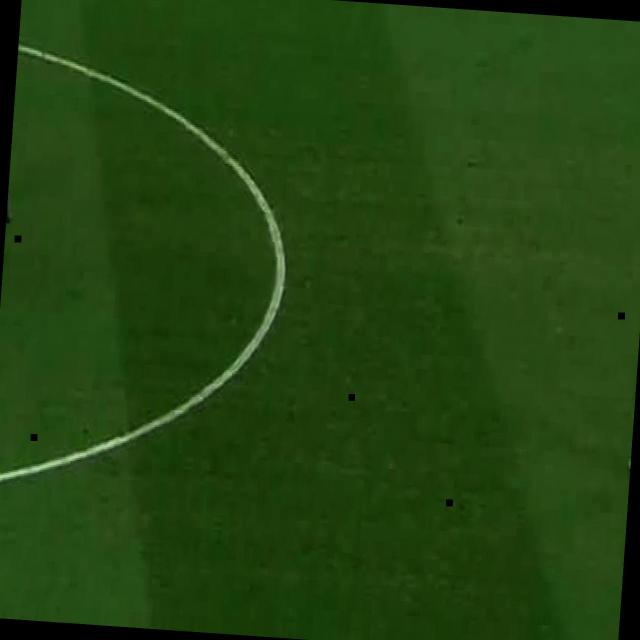player-white: (5, 40, 23, 231)
